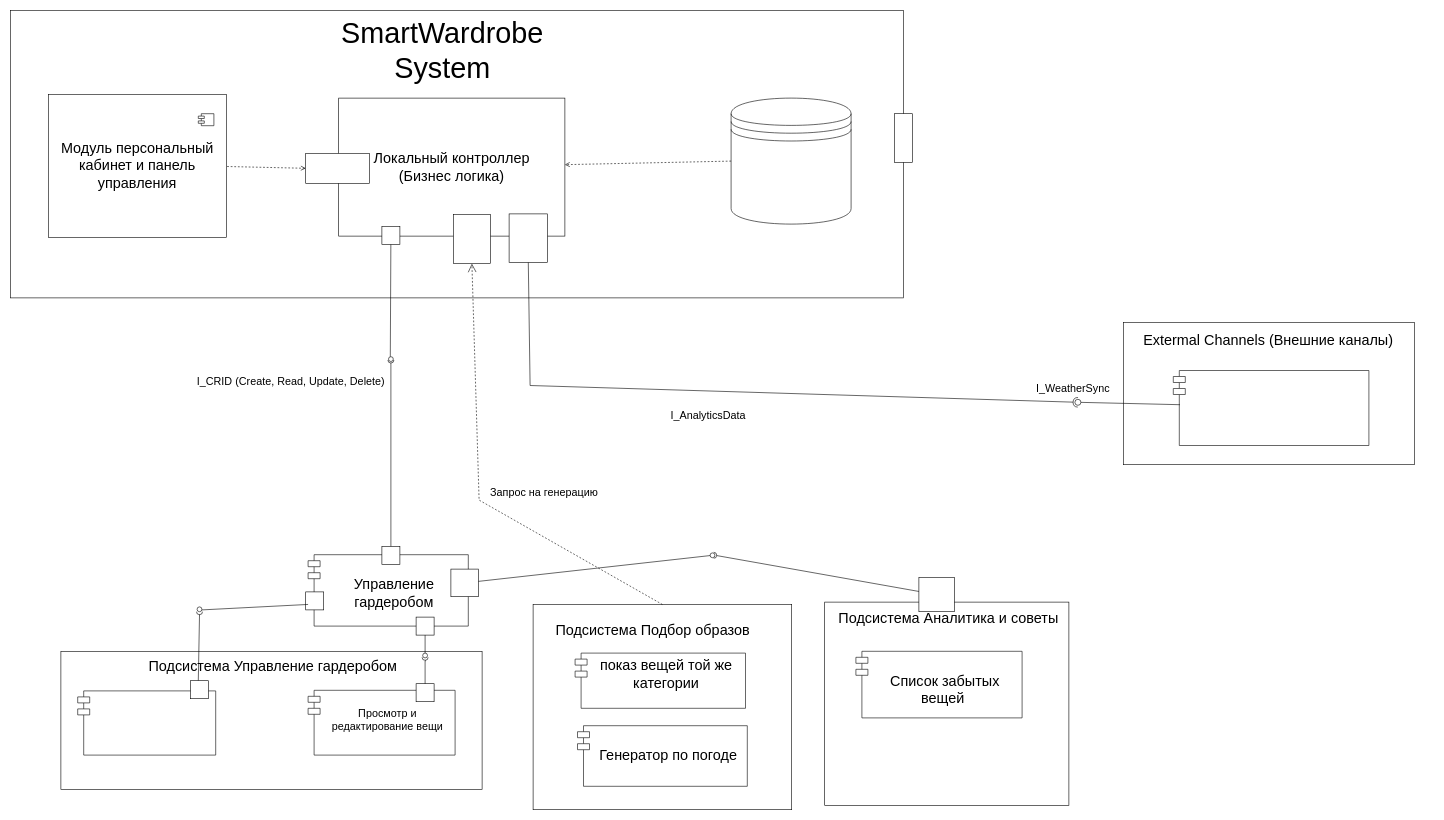
The diagram is 1444 pixels wide and 820 high, and some of its shapes have lost their labels. Here are the shapes that lost their labels. From the top down, the centre of each, then its label:
At point (790, 161): "SQLite (Локальное хранилище)".
At point (1271, 408): "OpenWeather API".
At point (146, 722): "Добавление вещи".
